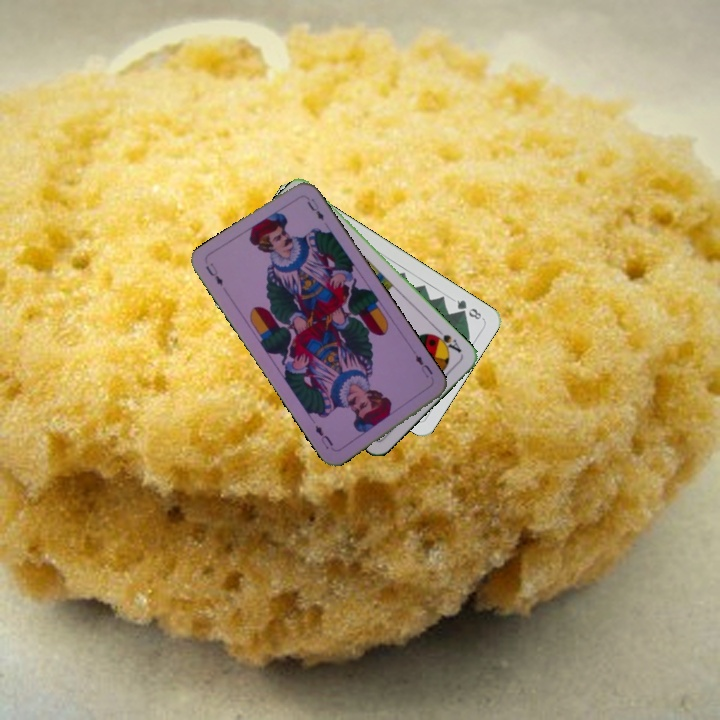EU: (411, 351, 436, 381), (201, 259, 226, 289)
G8: (453, 296, 484, 322)
SA: (428, 324, 464, 356)
